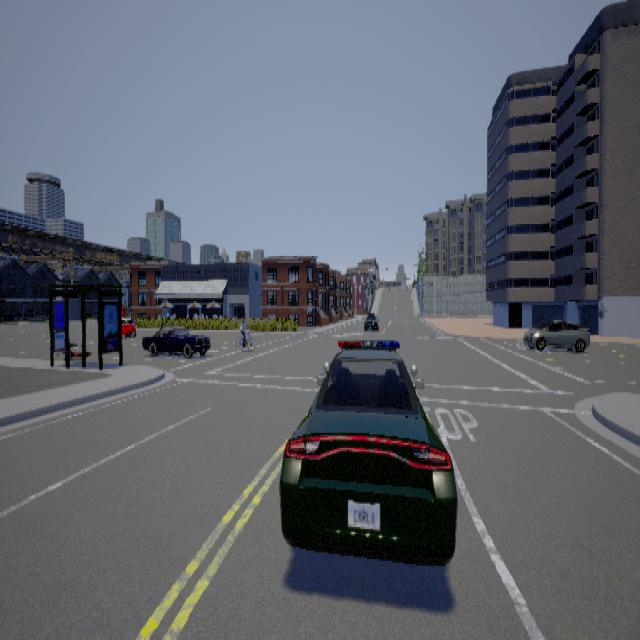bike: (235, 315, 254, 354)
vehicle: (278, 339, 457, 564), (522, 318, 589, 352), (141, 325, 210, 357), (361, 312, 383, 332)
